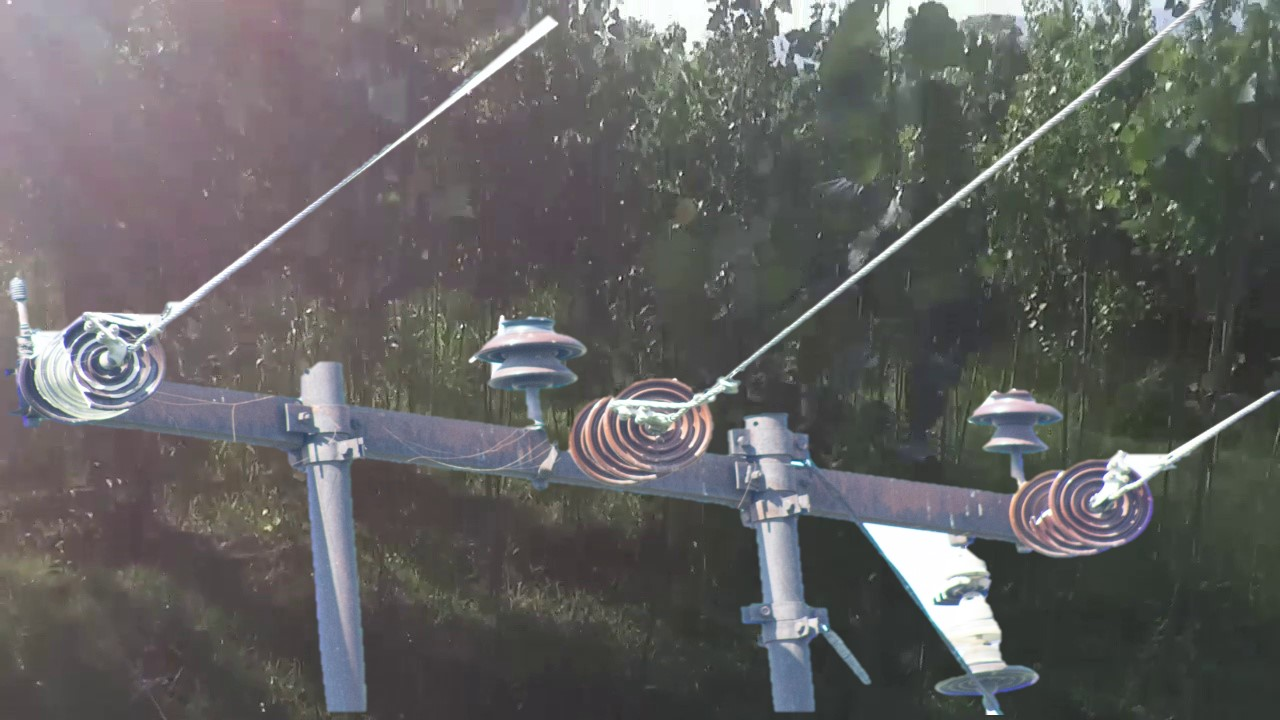defect_disc: (62, 307, 170, 413)
insulator_disc: (600, 367, 717, 478), (1046, 450, 1158, 552)
